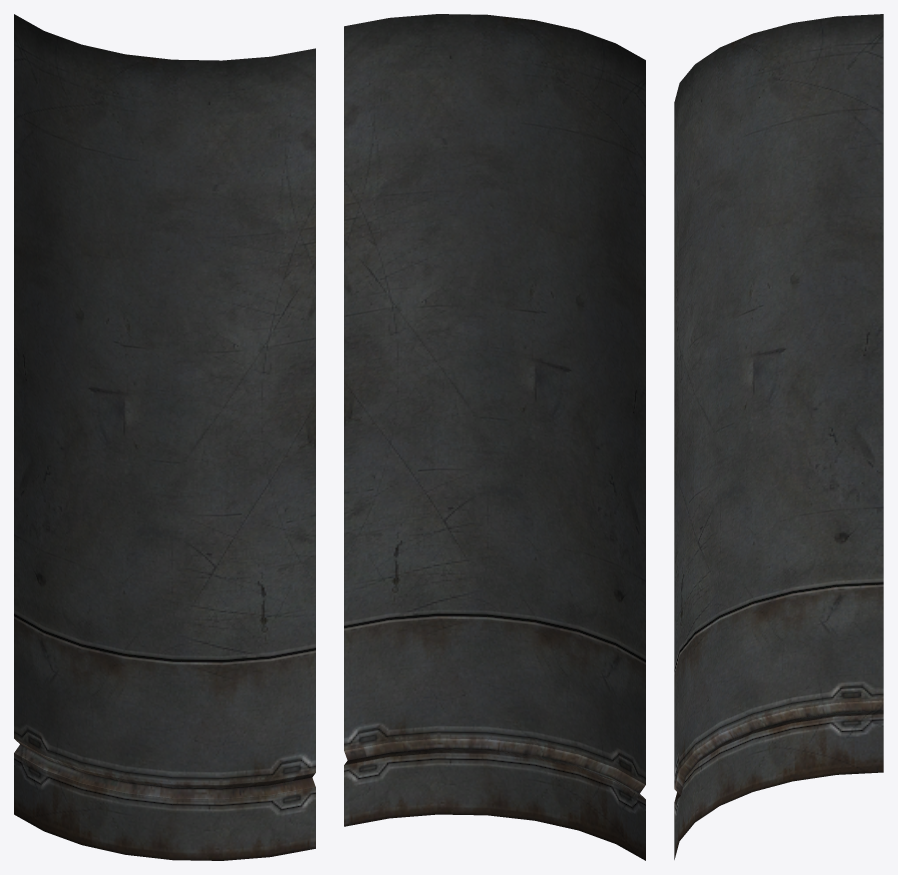
Rendered from datasite_convex_curved.dae.
The picture shows the model from 3 angles, left to right: view 1: azimuth 30°, elevation 25°; view 2: azimuth 210°, elevation 25°; view 3: azimuth 270°, elevation 25°; orthographic projection. The views are drawn at different scales.
Parts seen in each view (by area): view 1: convex_curved; view 2: convex_curved; view 3: convex_curved.
Boxes of the visible parts, x1=… form: convex_curved: x1=14, y1=14, x2=315, y2=860; convex_curved: x1=344, y1=14, x2=645, y2=860; convex_curved: x1=674, y1=14, x2=883, y2=859.
Bounding box in the file's own units: 1 × 4 × 1.
